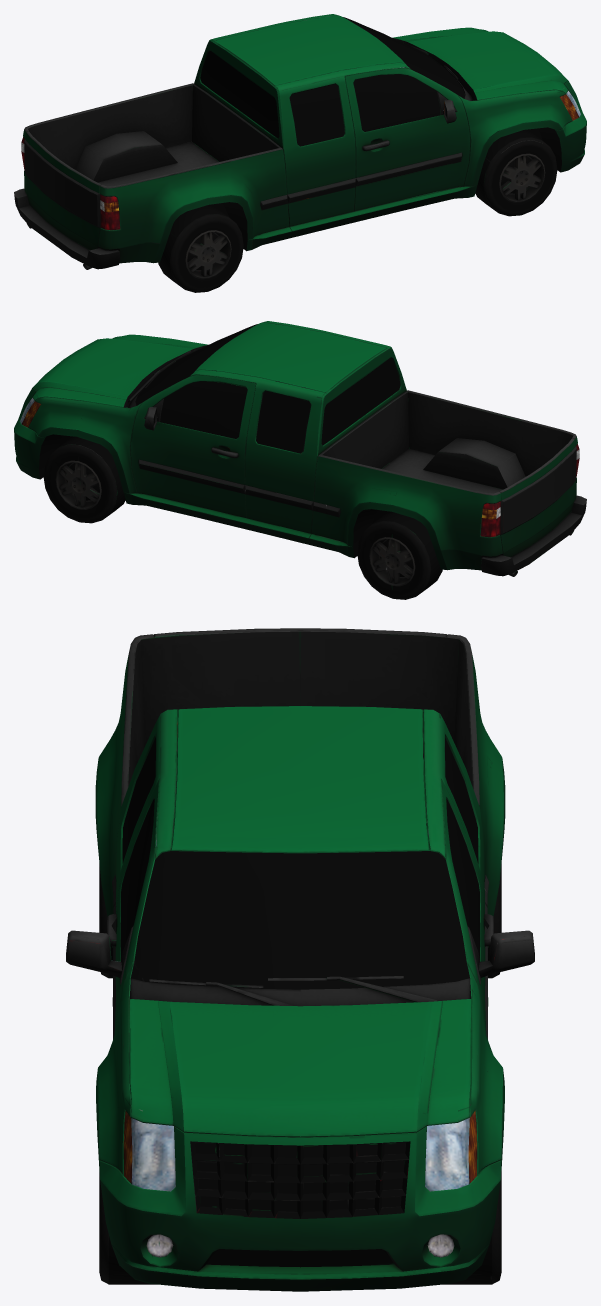
Rendered from car3.obj.
3 renders of one model, top to bottom at view 1: azimuth 30°, elevation 25°; view 2: azimuth 150°, elevation 25°; view 3: azimuth 270°, elevation 25°, orthographic. The views are drawn at different scales.
Visible parts, largest first — view 1: bake; view 2: bake; view 3: bake.
Part boxes in pixels (x1,y1,x2,y2): bake: [14, 14, 586, 292]; bake: [14, 321, 586, 599]; bake: [66, 628, 534, 1291].
Bounding box in the file's own units: 5.18 × 1.7 × 2.07.
1 material, 1 textured.
